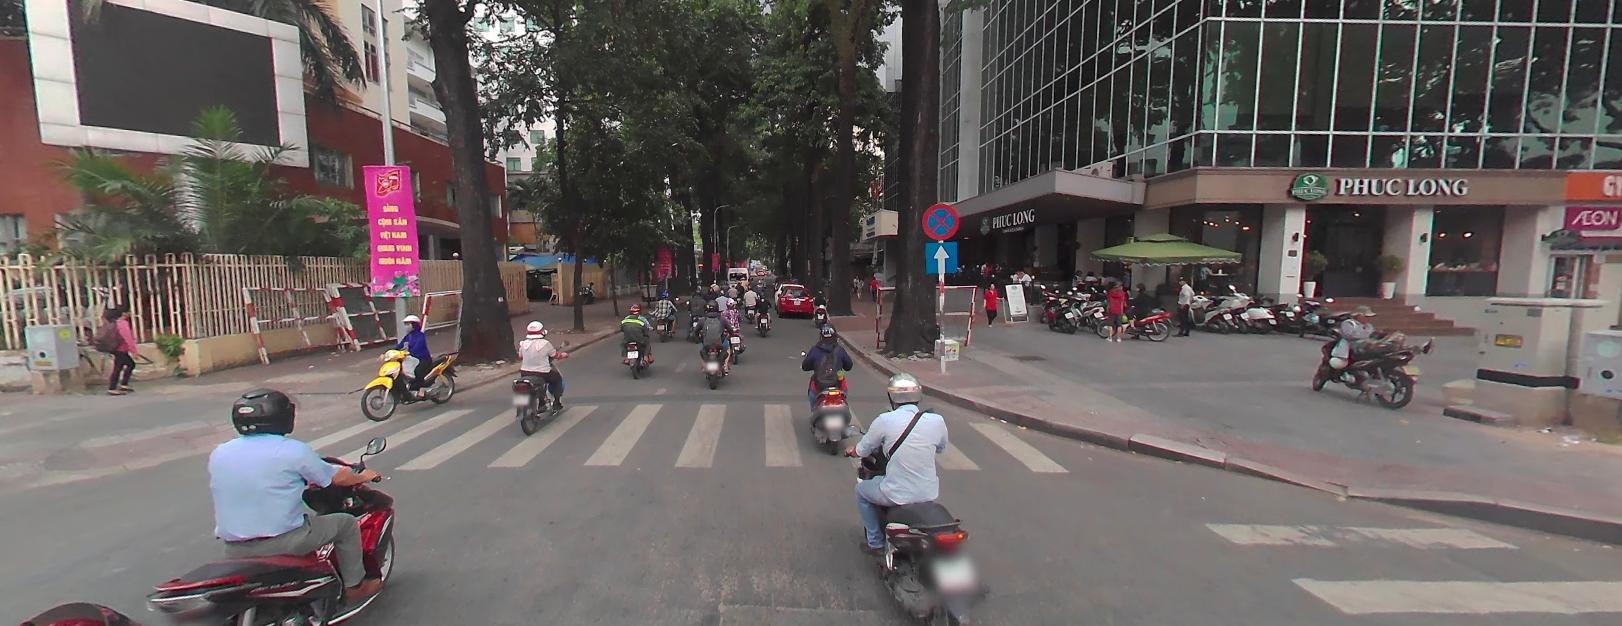Cam dung va do: (921, 202, 959, 238)
